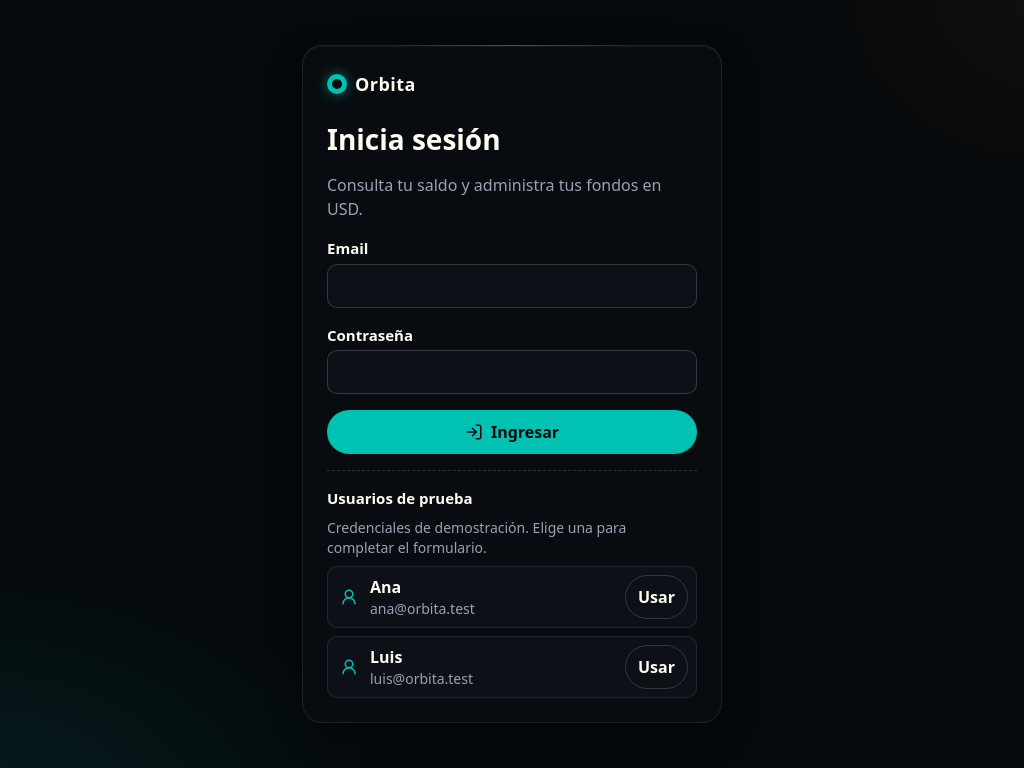
Scenario: demo users › lists two test users and fills the form with their credentials
Expected: the element "Usuarios de prueba" shows "ana@orbita.test", [370, 599, 475, 618]
Expected: the element "Usuarios de prueba" shows "luis@orbita.test", [370, 669, 473, 688]
Click the button with aria-label "Usar credenciales de prueba de Luis". click: (656, 667)
box: [625, 645, 688, 689]
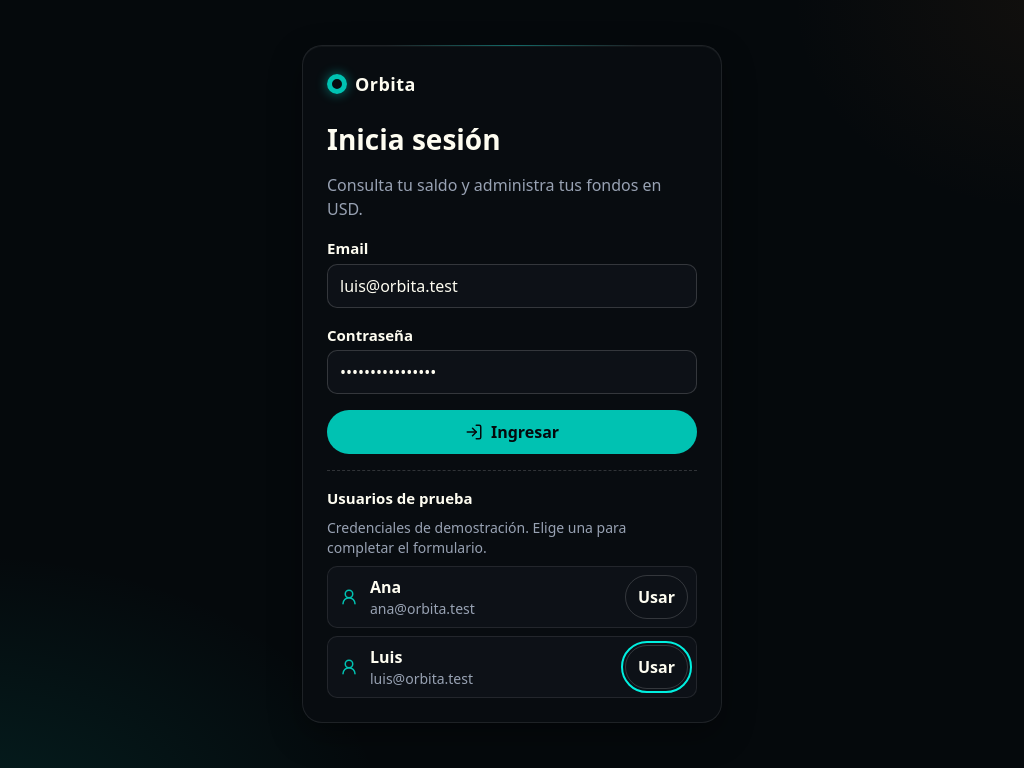
Result: the field labelled "Email" holds "luis@orbita.test" at [327, 264, 697, 308]
Result: the password field labelled "Contraseña" holds "Orbita-Luis-2026" at [327, 350, 697, 394]
Click the button "Ingresar". click: (512, 432)
box: [327, 410, 697, 454]
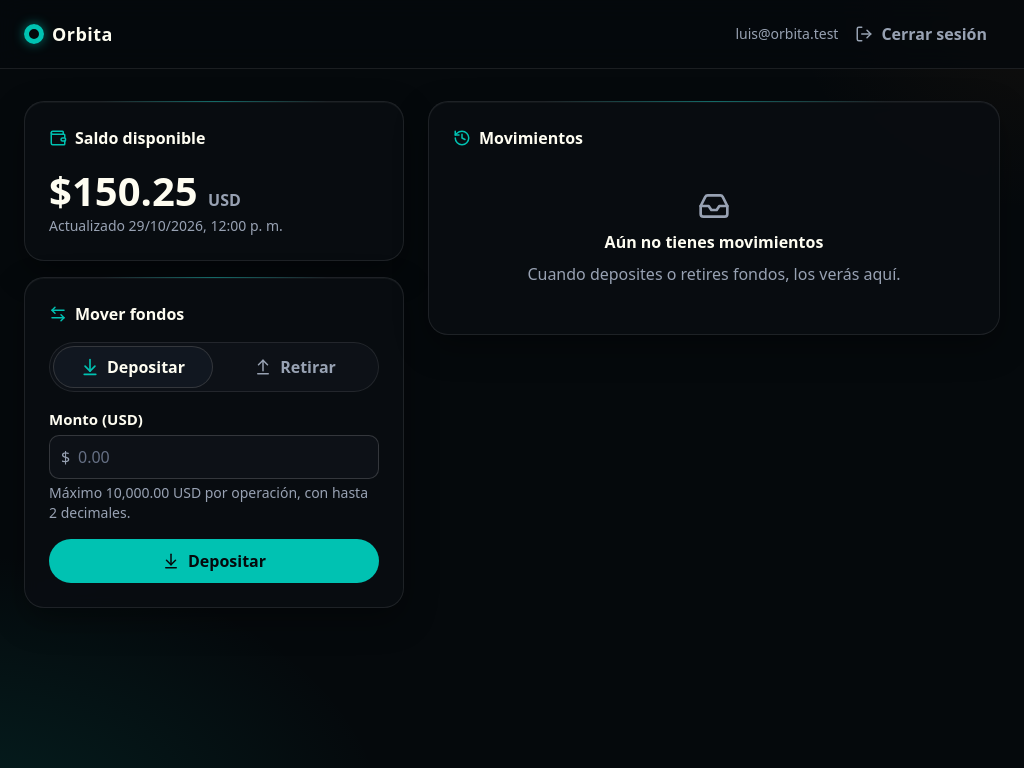
Result: the text "$150.25" is shown at [49, 163, 198, 218]
